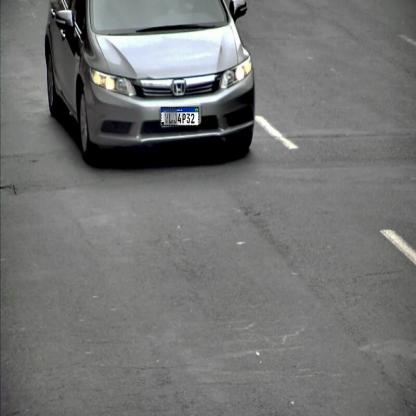PlacaM: (161, 107, 199, 126)
